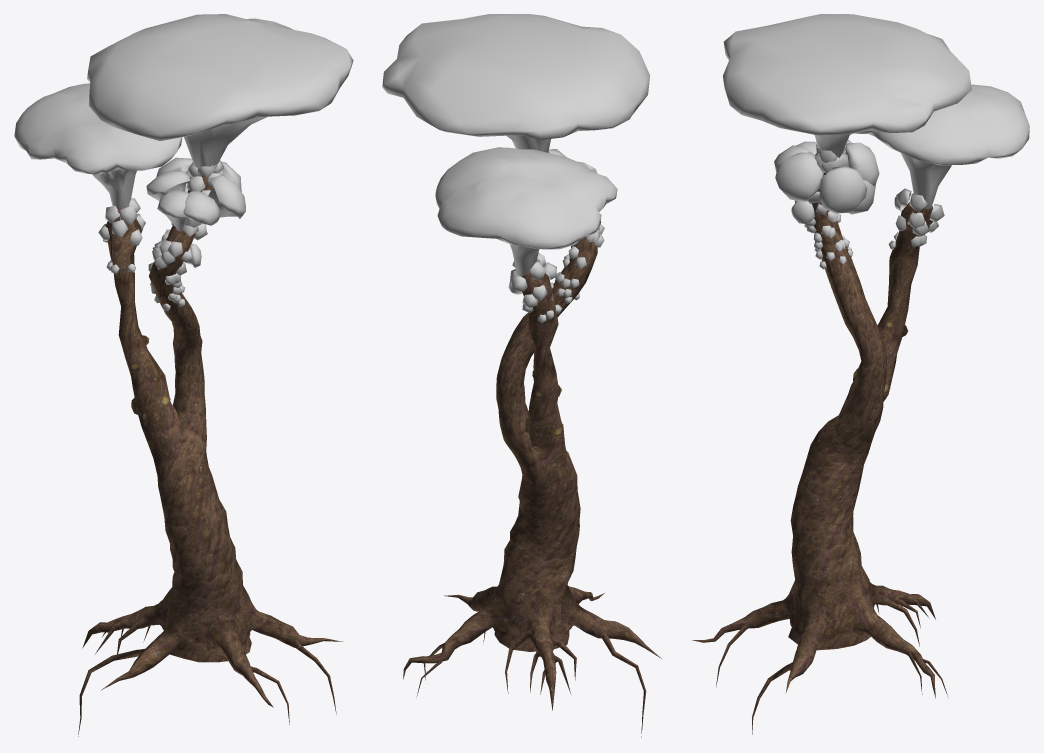
Rendered from Shrooomtree_2_L2.fbx.
The picture shows the model from 3 angles, left to right: view 1: azimuth 30°, elevation 25°; view 2: azimuth 150°, elevation 25°; view 3: azimuth 270°, elevation 25°; orthographic projection.
Parts seen in each view (by area): view 1: polySurface103; view 2: polySurface103; view 3: polySurface103.
Part boxes in pixels (left/top/right/bottom): polySurface103: left=14, top=14, right=353, bottom=736; polySurface103: left=382, top=14, right=661, bottom=737; polySurface103: left=692, top=14, right=1029, bottom=734.
Size of the model in its own units: 542 by 1353 by 626.
